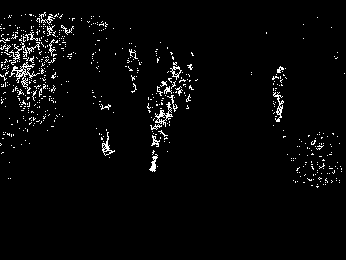person: (268, 64, 294, 126)
